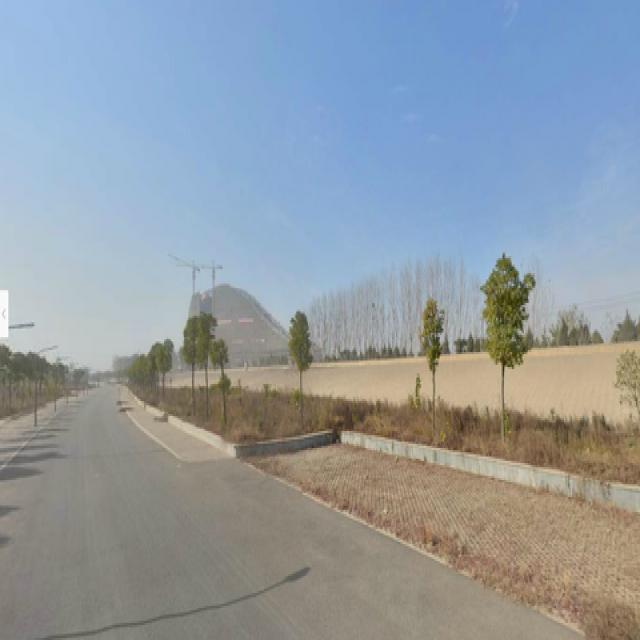cinn: (484, 260, 520, 418), (416, 298, 447, 428), (287, 314, 317, 426), (184, 318, 201, 407)
